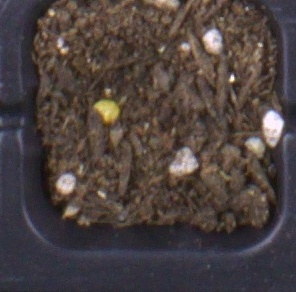chilli seed: (92, 99, 121, 124)
